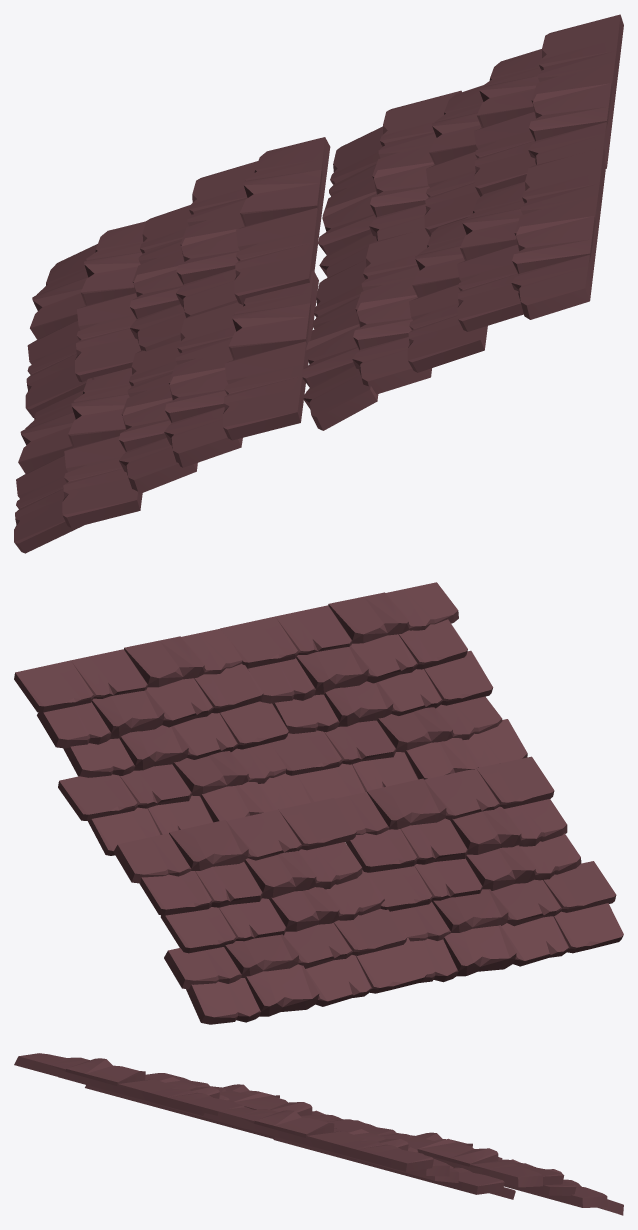
File: RedLeftFrontRoof.fbx
The picture shows the model from 3 angles, top to bottom: view 1: azimuth 30°, elevation 25°; view 2: azimuth 150°, elevation 25°; view 3: azimuth 270°, elevation 25°; orthographic projection. The views are drawn at different scales.
Visible parts, largest first — view 1: RedLeftFrontRoof_Merged; view 2: RedLeftFrontRoof_Merged; view 3: RedLeftFrontRoof_Merged.
Part boxes in pixels (x1,y1,x2,y2): RedLeftFrontRoof_Merged: (14, 14, 623, 553); RedLeftFrontRoof_Merged: (14, 582, 623, 1024); RedLeftFrontRoof_Merged: (14, 1053, 623, 1215).
Size of the model in its own units: 680 by 256 by 695.
